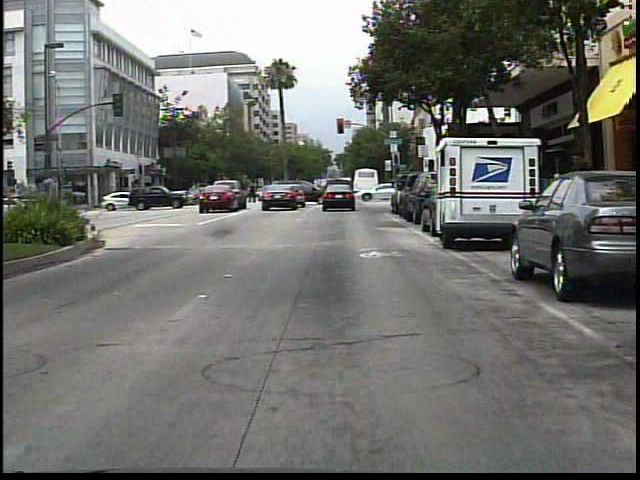person: (562, 146, 599, 257), (247, 180, 262, 206)
